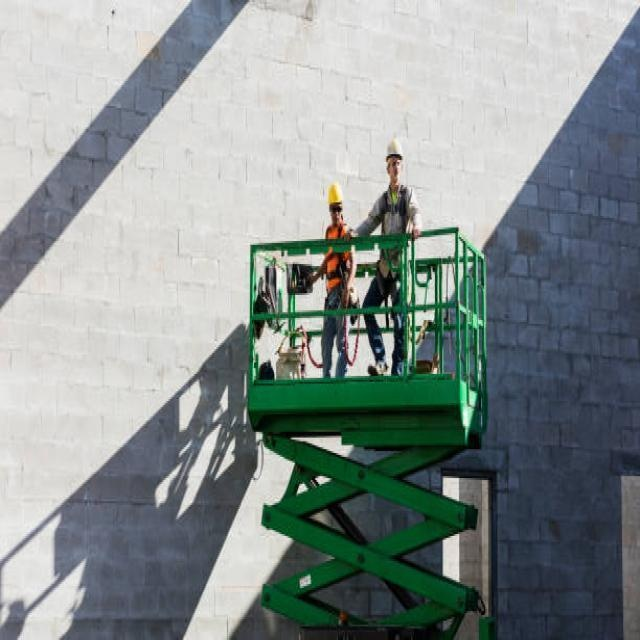Arnes_seguridad: (374, 186, 414, 304), (320, 224, 349, 300)
